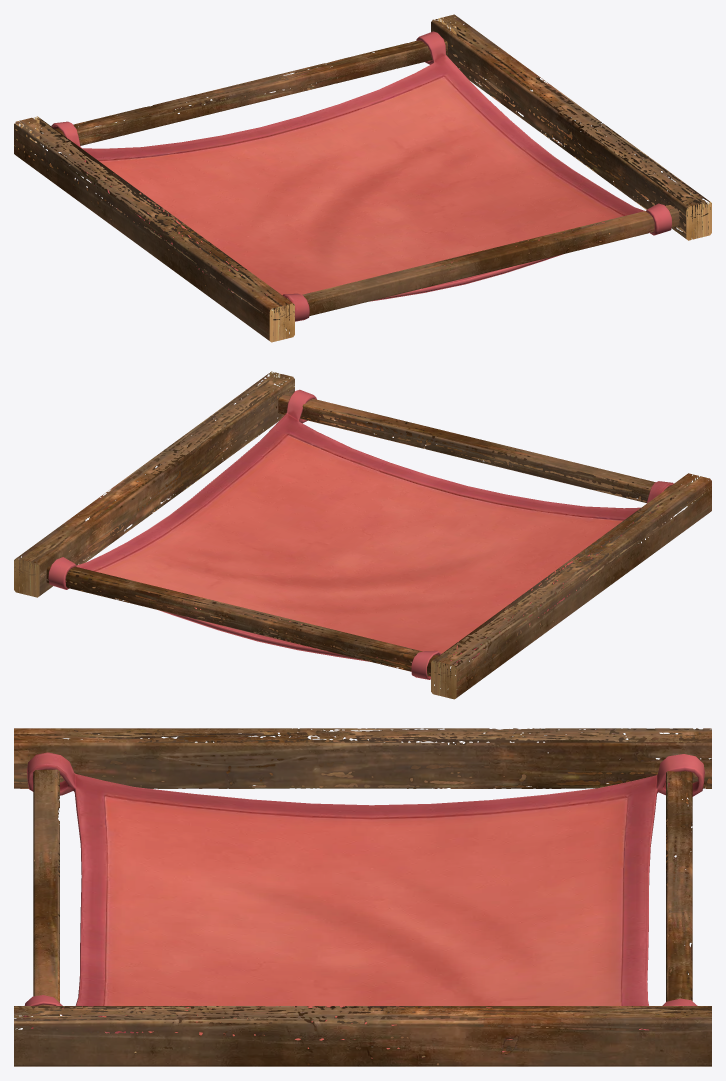
3 views of the same model, one above another, from view 1: azimuth 30°, elevation 25°; view 2: azimuth 150°, elevation 25°; view 3: azimuth 270°, elevation 25° (orthographic). The views are drawn at different scales.
Visible parts, largest first — view 1: SM_BB_T4_Roof_Large_01_LOD0; view 2: SM_BB_T4_Roof_Large_01_LOD0; view 3: SM_BB_T4_Roof_Large_01_LOD0.
Boxes of the visible parts, left/top/right/bottom form: SM_BB_T4_Roof_Large_01_LOD0: left=14, top=14, right=711, bottom=342; SM_BB_T4_Roof_Large_01_LOD0: left=14, top=371, right=711, bottom=699; SM_BB_T4_Roof_Large_01_LOD0: left=14, top=728, right=711, bottom=1066.
Size of the model in its own units: 3 by 0.3559 by 3.
Materials: 2 (2 with a texture image).
